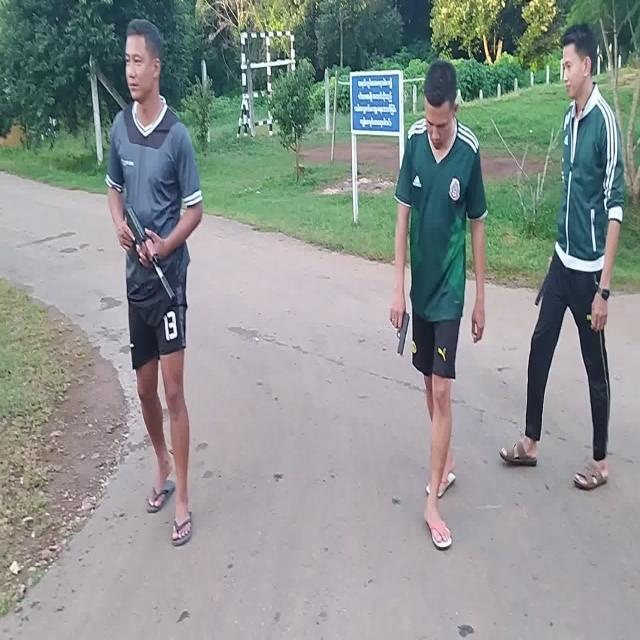gun: (127, 207, 176, 302), (397, 312, 410, 356)
